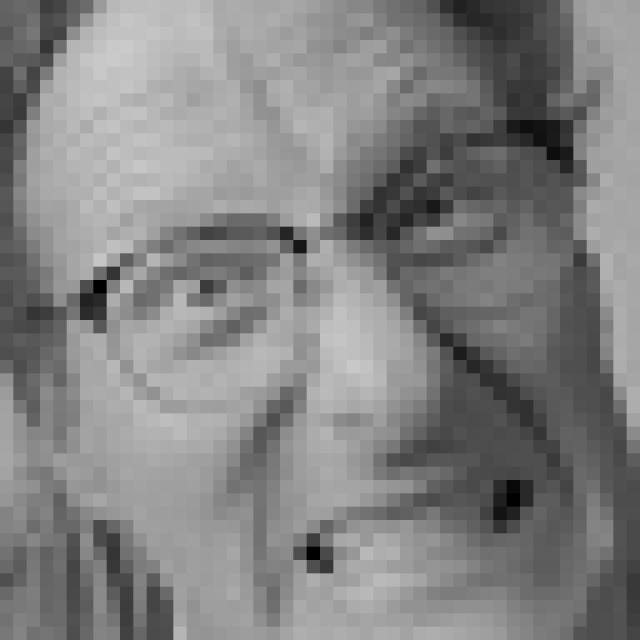angry: (88, 125, 595, 589)
